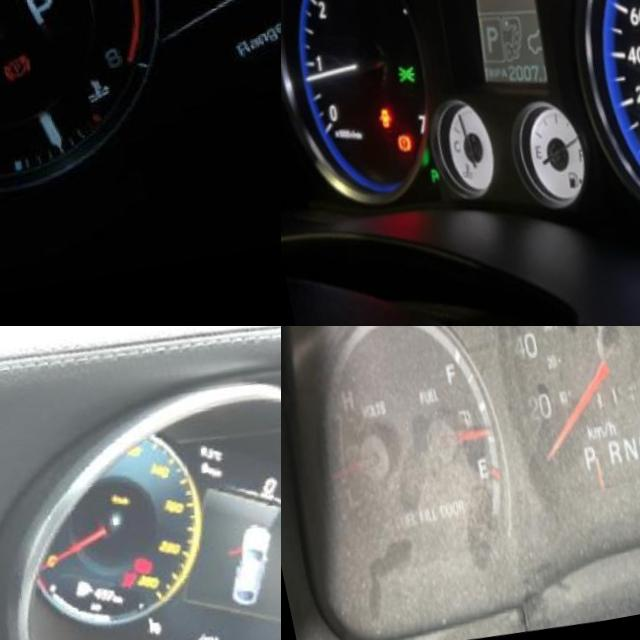Doors: (359, 107, 381, 138)
Engine cooling system: (61, 87, 103, 128)
